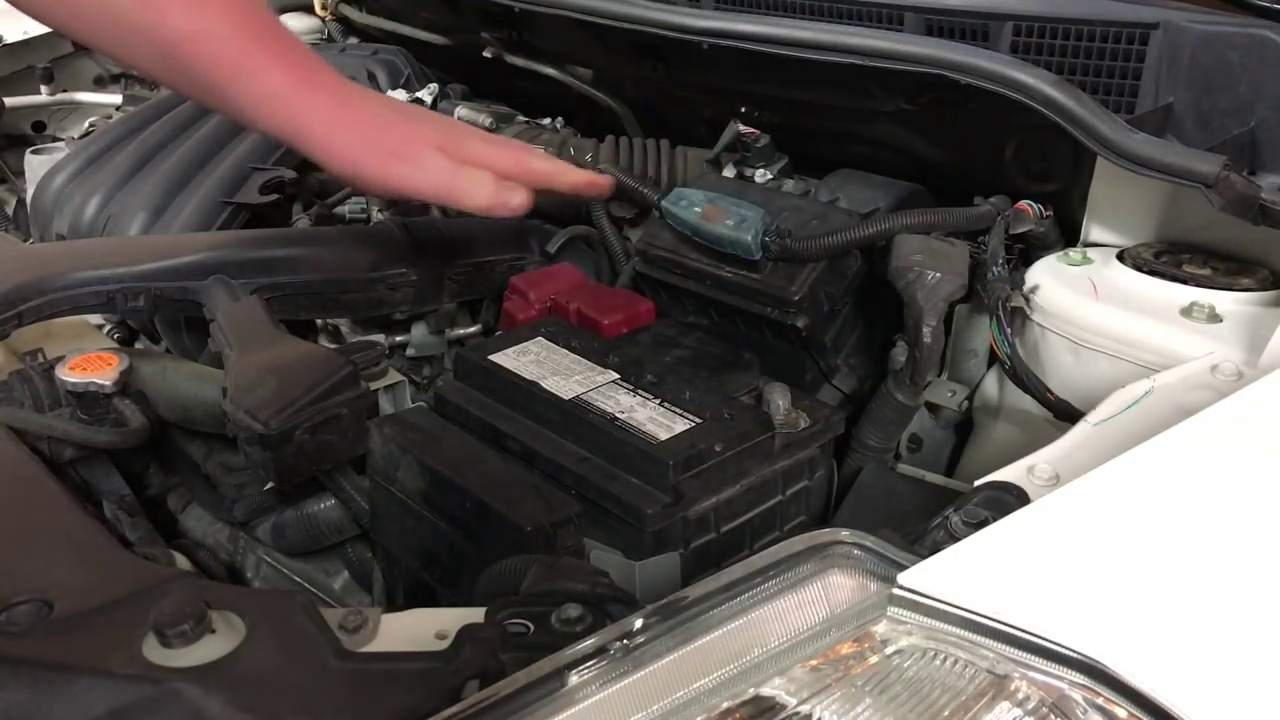battery: (454, 272, 807, 482)
neg_disconnected: (726, 371, 836, 438)
pos_connected: (481, 248, 649, 346)
